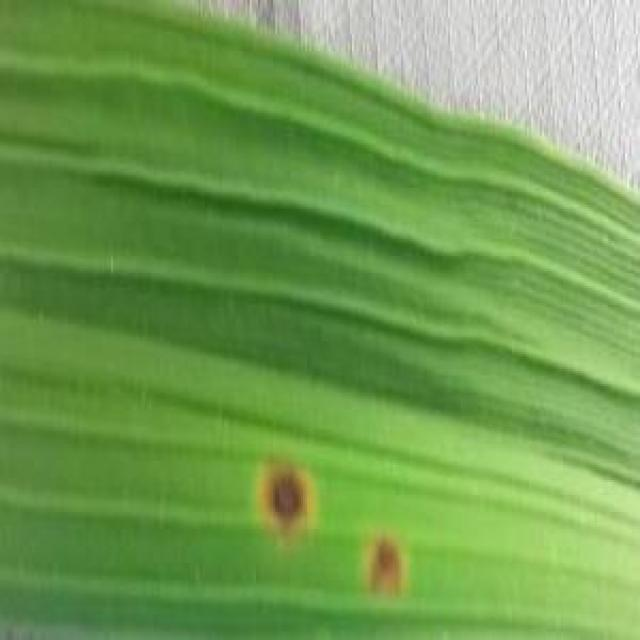brownspots: (258, 461, 318, 540), (361, 534, 414, 598)
